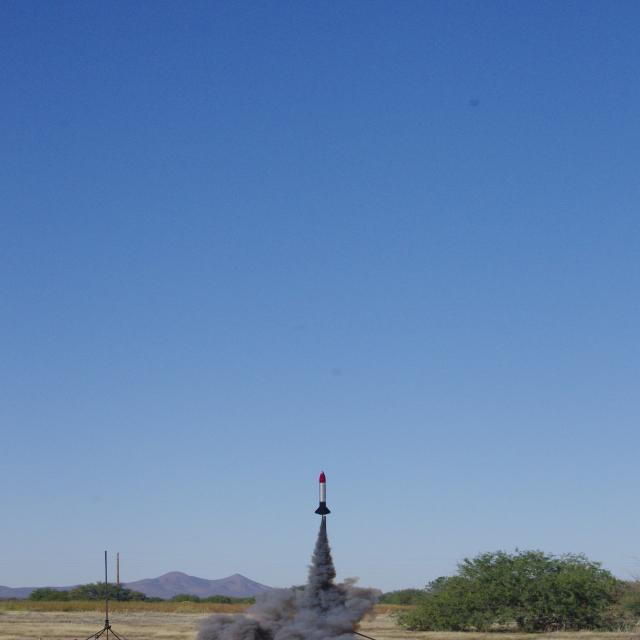Rocket: (314, 471, 332, 516)
